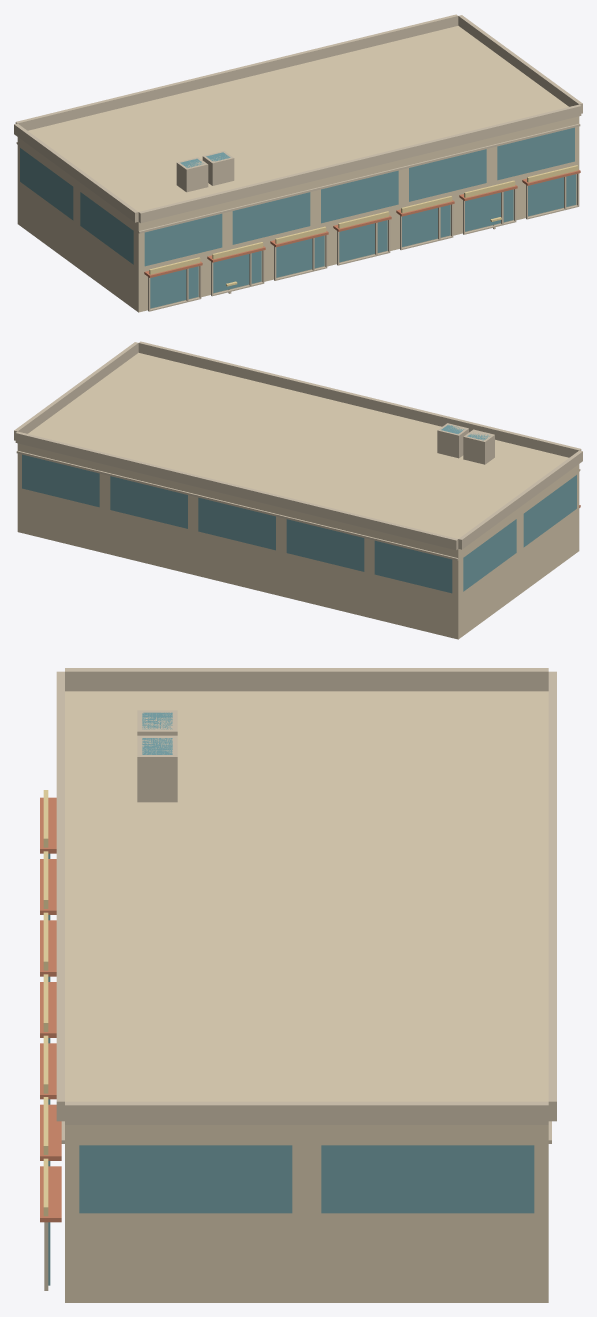
Rendered from commercial_4x2_a.glb.
3 views of the same model, one above another, from view 1: azimuth 30°, elevation 25°; view 2: azimuth 150°, elevation 25°; view 3: azimuth 270°, elevation 25° (orthographic). The views are drawn at different scales.
Parts seen in each view (by area): view 1: commercial_4x2_a_0; view 2: commercial_4x2_a_0; view 3: commercial_4x2_a_0.
Boxes of the visible parts, bbox=[...] form: commercial_4x2_a_0: bbox=[14, 14, 582, 312]; commercial_4x2_a_0: bbox=[14, 341, 582, 639]; commercial_4x2_a_0: bbox=[40, 668, 556, 1302].
Bounding box in the file's own units: 31 × 7.5 × 15.5.
